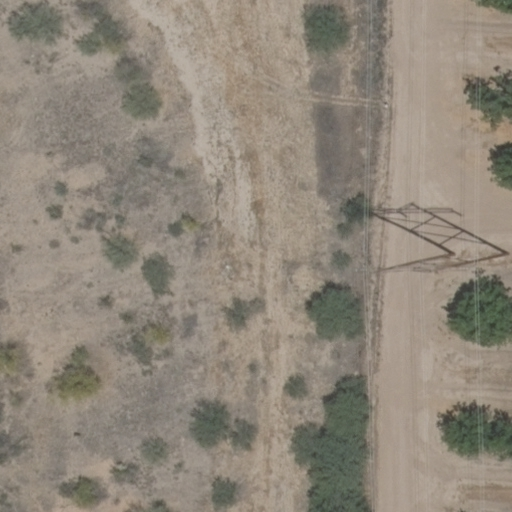TT: (366, 195, 505, 258)
